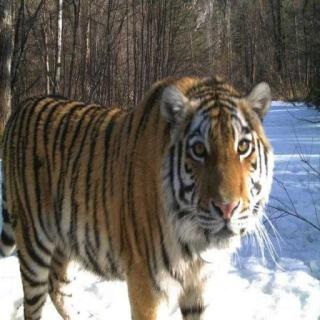Tiger: (0, 53, 298, 320)
